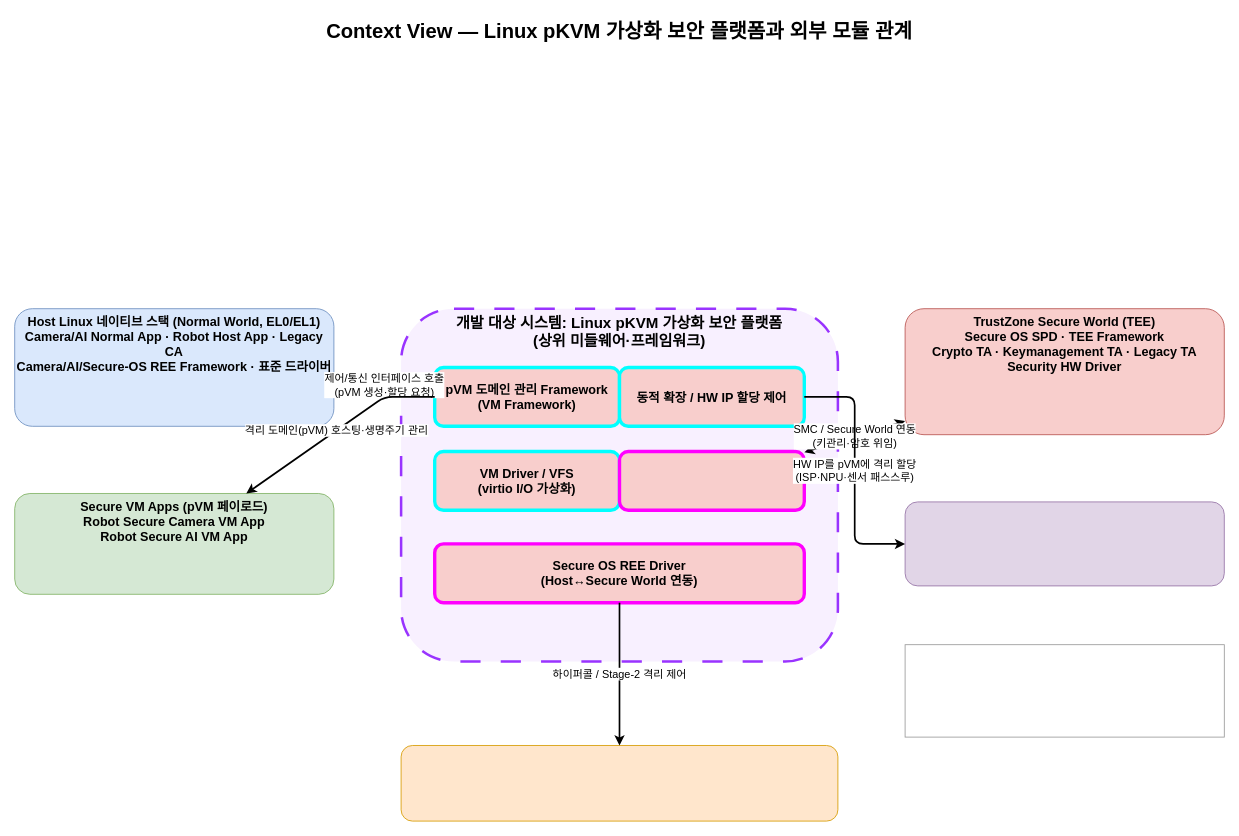
This 1239x836 diagram has some shape labels left out. Each missing label, with the box of its shape:
HW IP Camera HW · AI HW (NPU) · Security HW: (904, 501, 1224, 586)
pKVM 하이퍼바이저 (EL2) Stage-2 격리 · pVM 생성/스케줄링 기반: (400, 745, 838, 821)
Secure OS Kernel (RTOS) EL2 Vendor Module: (617, 449, 806, 512)
범례 · 분홍(f8cecc): 개발 대상 시스템 모듈 · 점선 경계: 시스템 경계(개발 범위) · 그 외 색상: 외부 모듈(연동 대상): (904, 644, 1224, 737)
